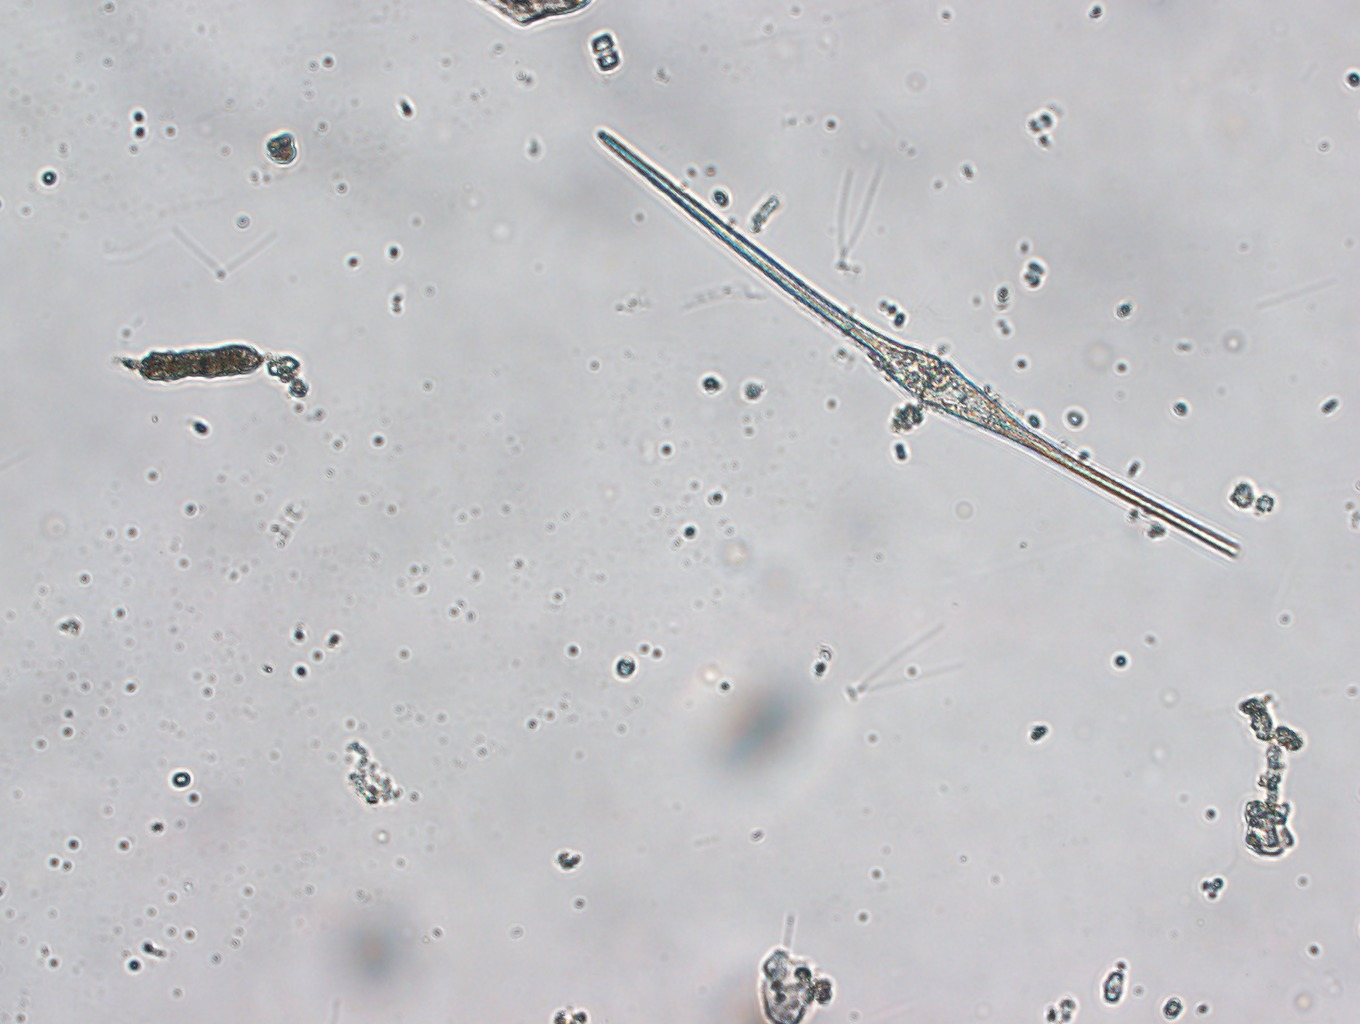ceratium fusus: (588, 128, 1249, 573)
